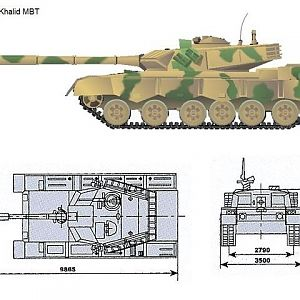Battle Tank: (1, 35, 300, 130)
